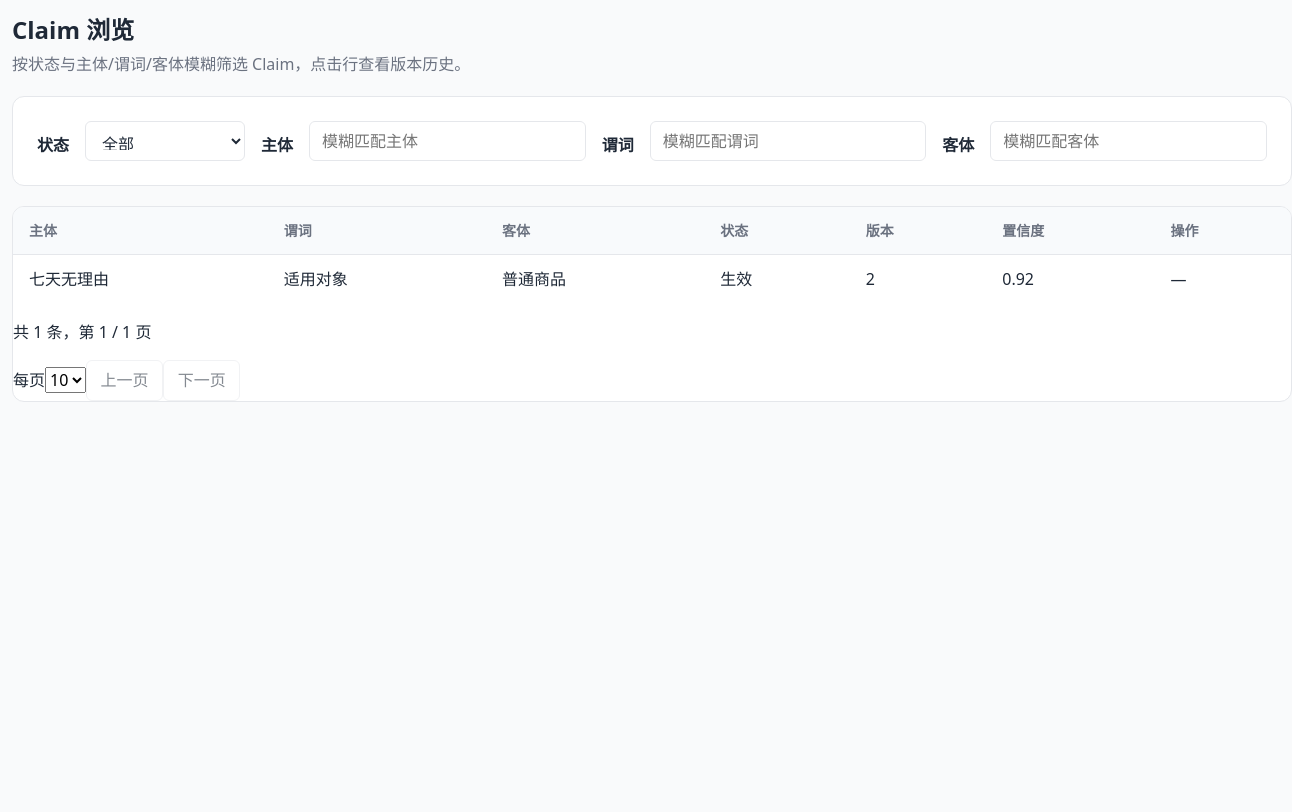
Test: ClaimsPage › expands claim history when a row is clicked
Expected: the text "七天无理由" is shown, x1=13 y1=254 x2=268 y2=304
Click the text "普通商品" at (534, 279), box x1=486 y1=254 x2=704 y2=304
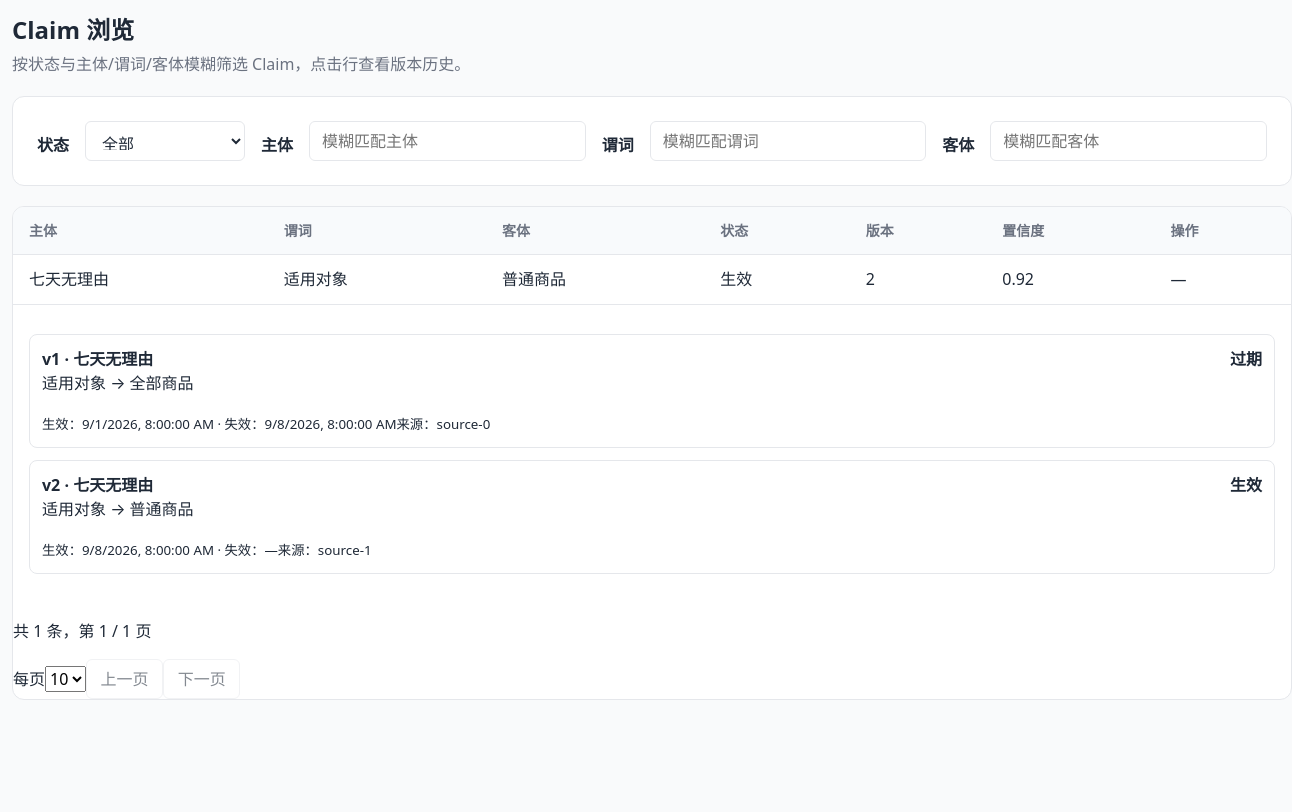
Expected: the text "v1 · 七天无理由" is shown, x1=42 y1=347 x2=153 y2=371
Expected: the text "v2 · 七天无理由" is shown, x1=42 y1=473 x2=153 y2=497
